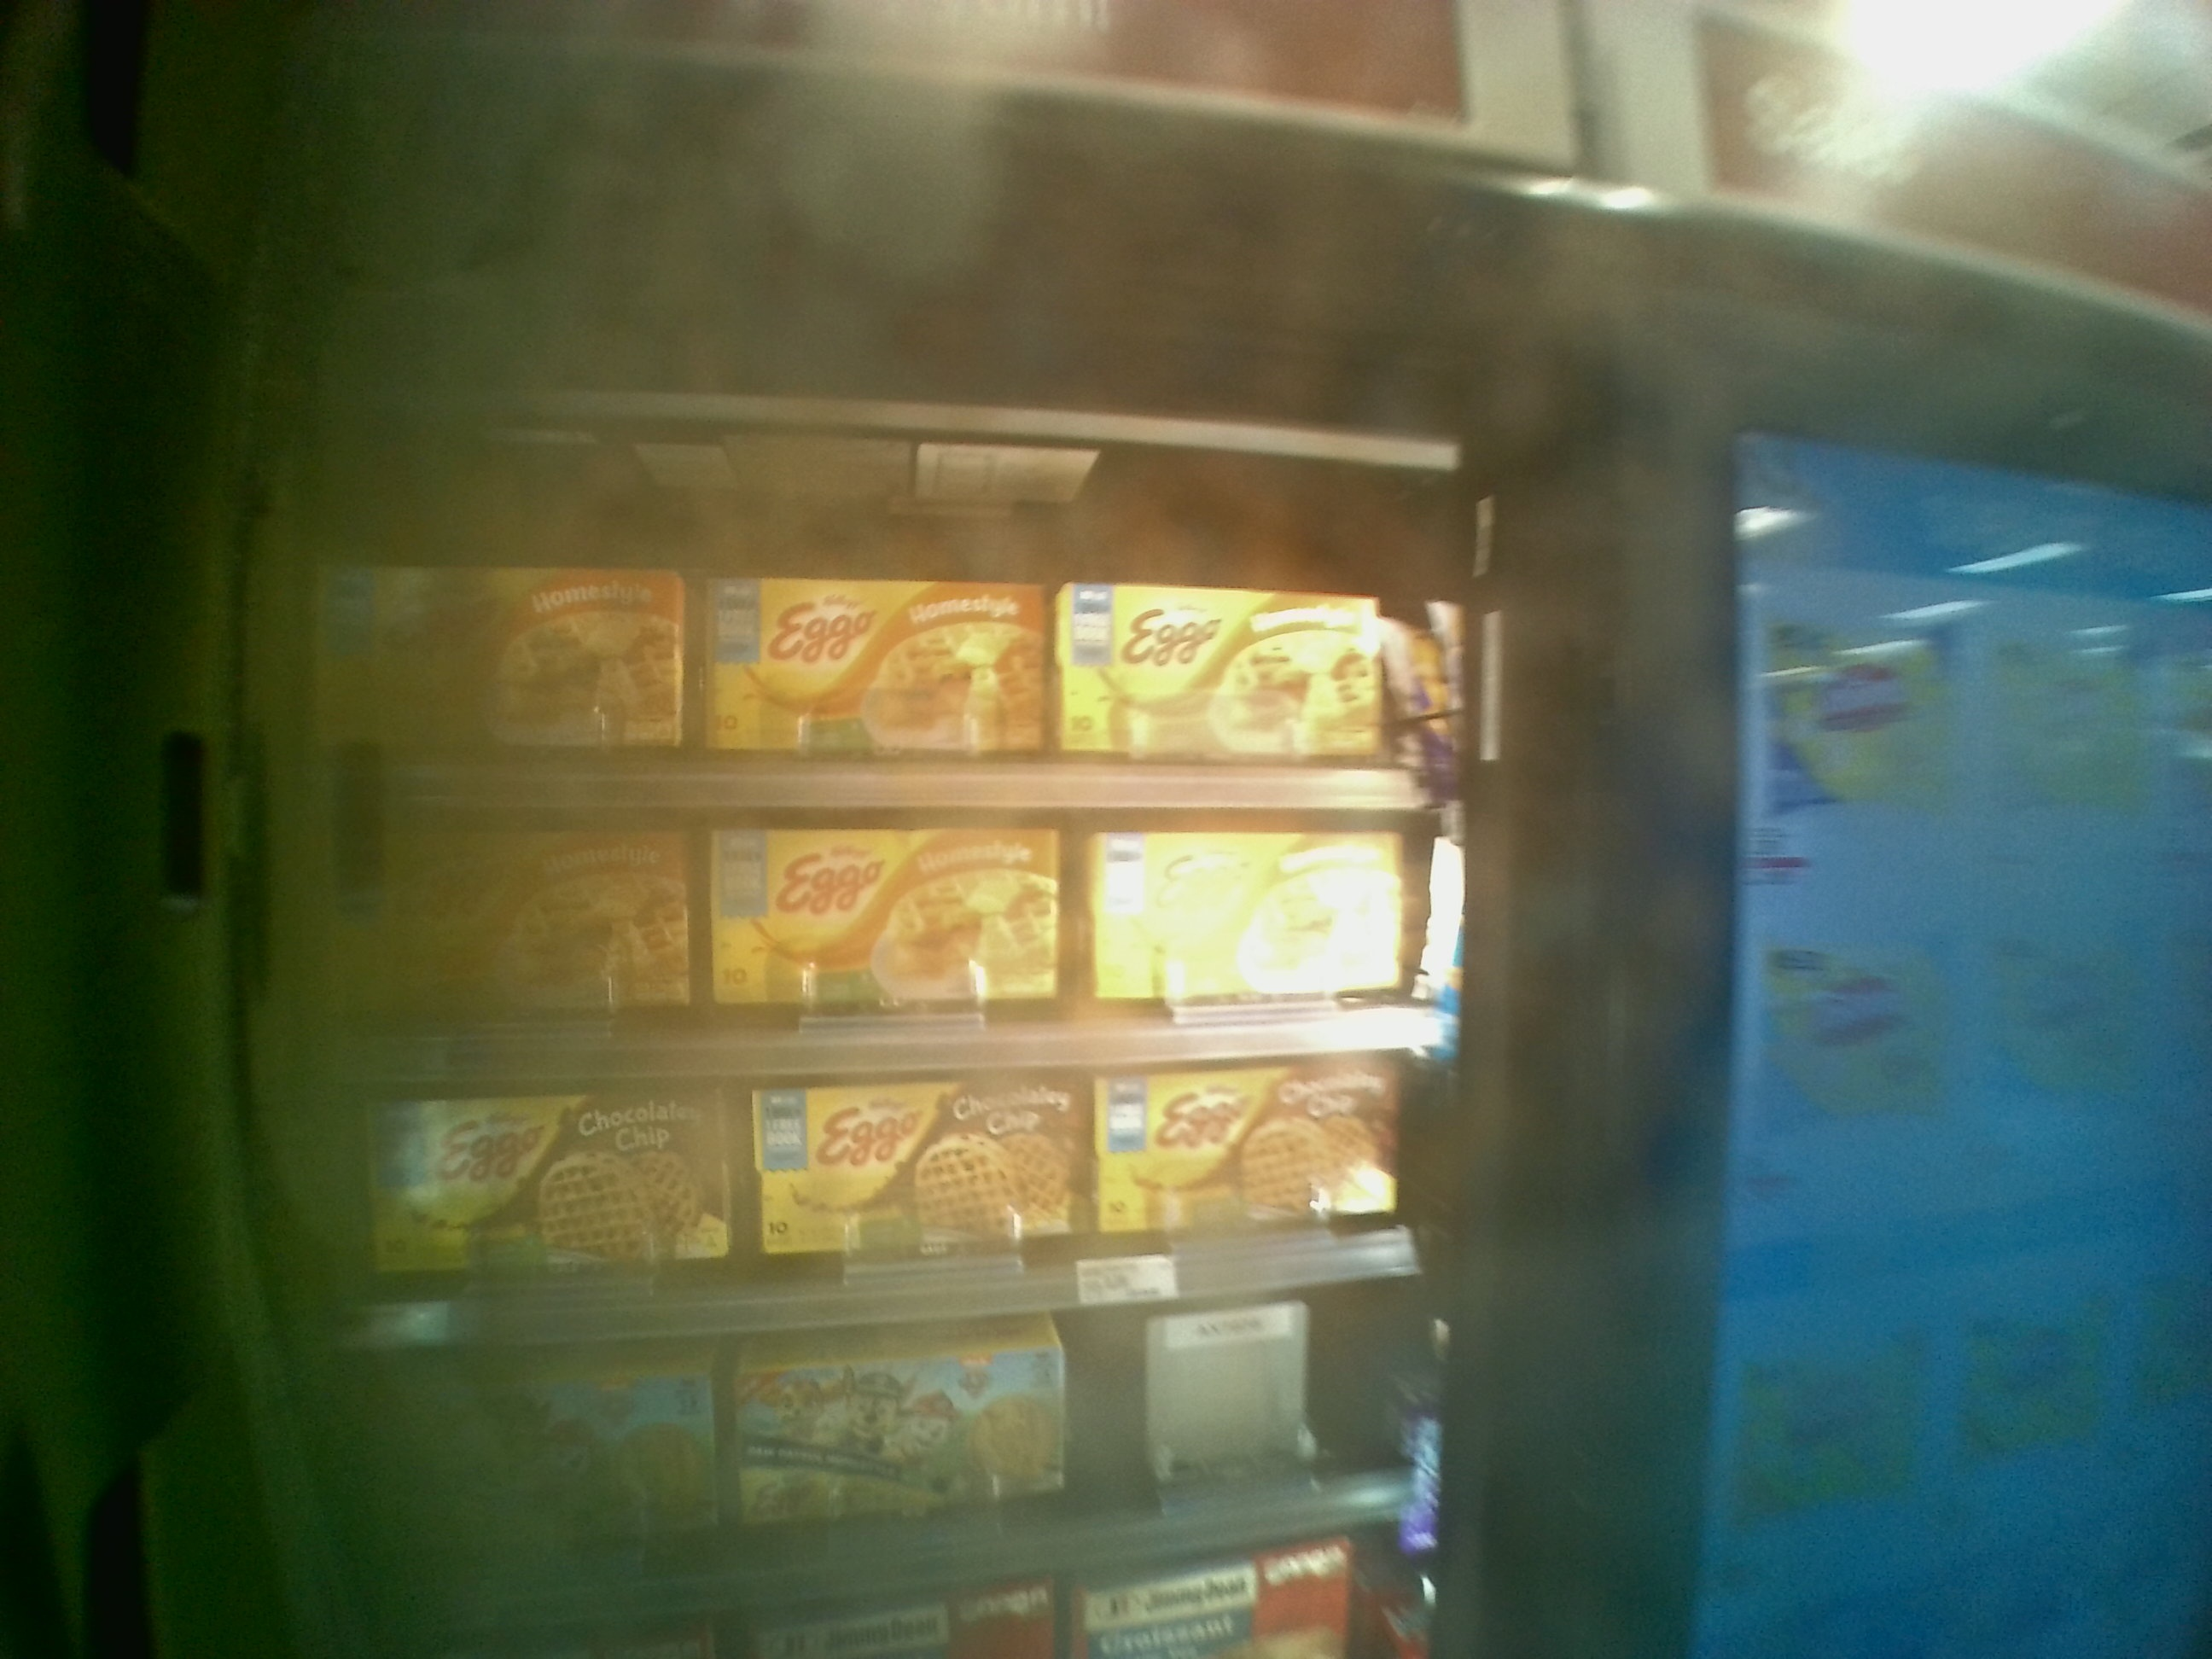shelf: (303, 477, 1489, 812), (308, 814, 1474, 1073), (310, 1073, 1468, 1333)
